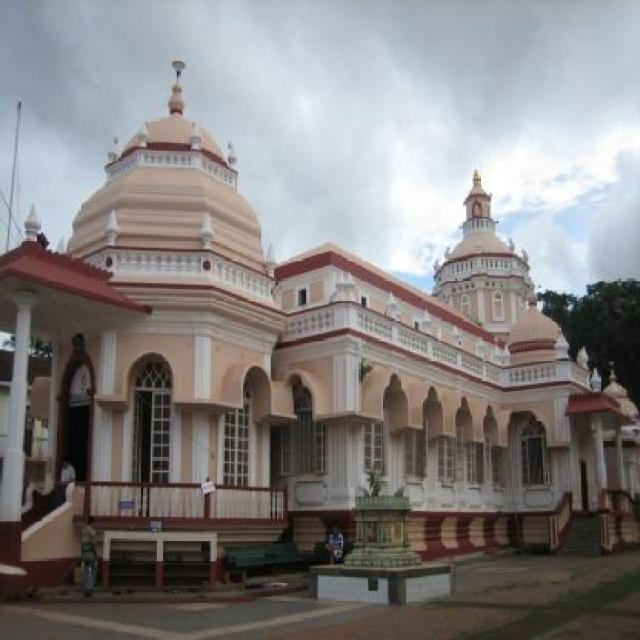stair: (558, 505, 602, 557)
